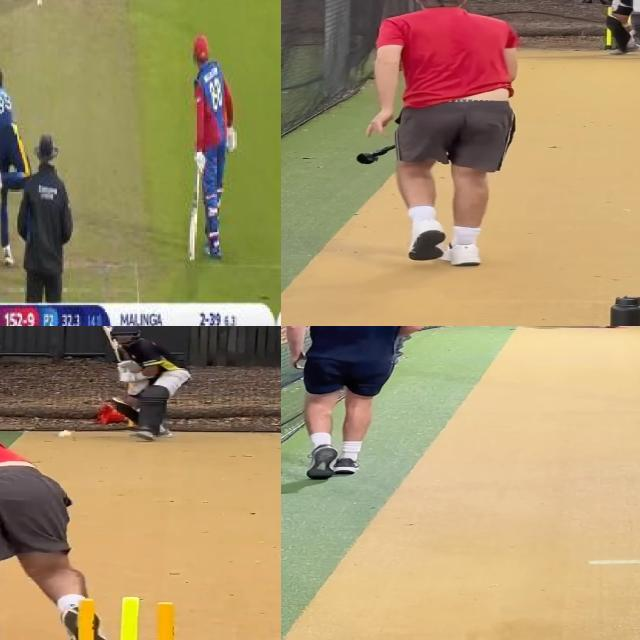Cricket ball: (58, 430, 75, 439), (36, 0, 43, 8)
Stumps: (60, 596, 186, 640)
